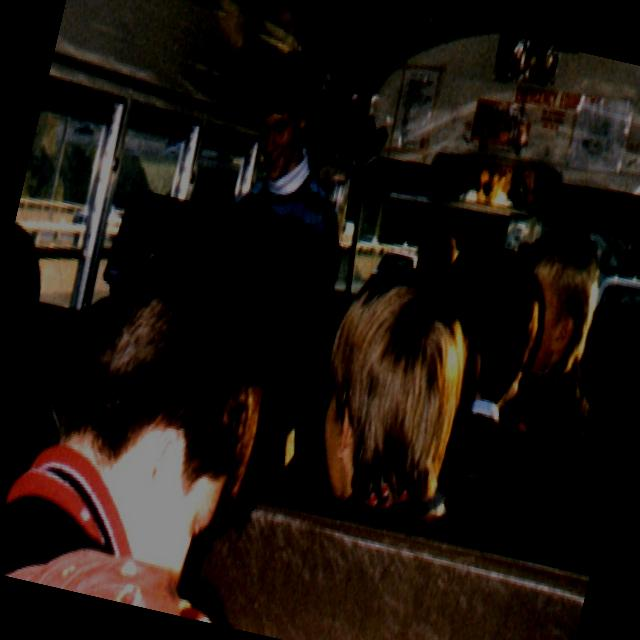Vehicle: (368, 248, 416, 290), (356, 232, 380, 256), (72, 208, 89, 227)
